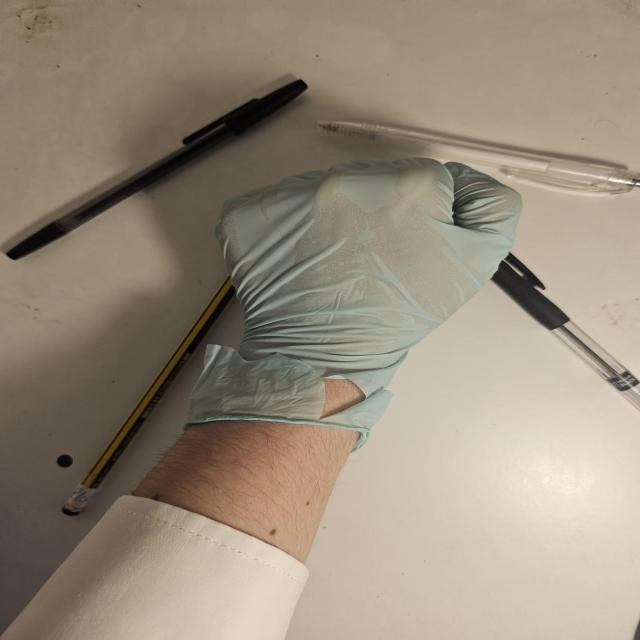gloves_damaged: (180, 156, 524, 456)
